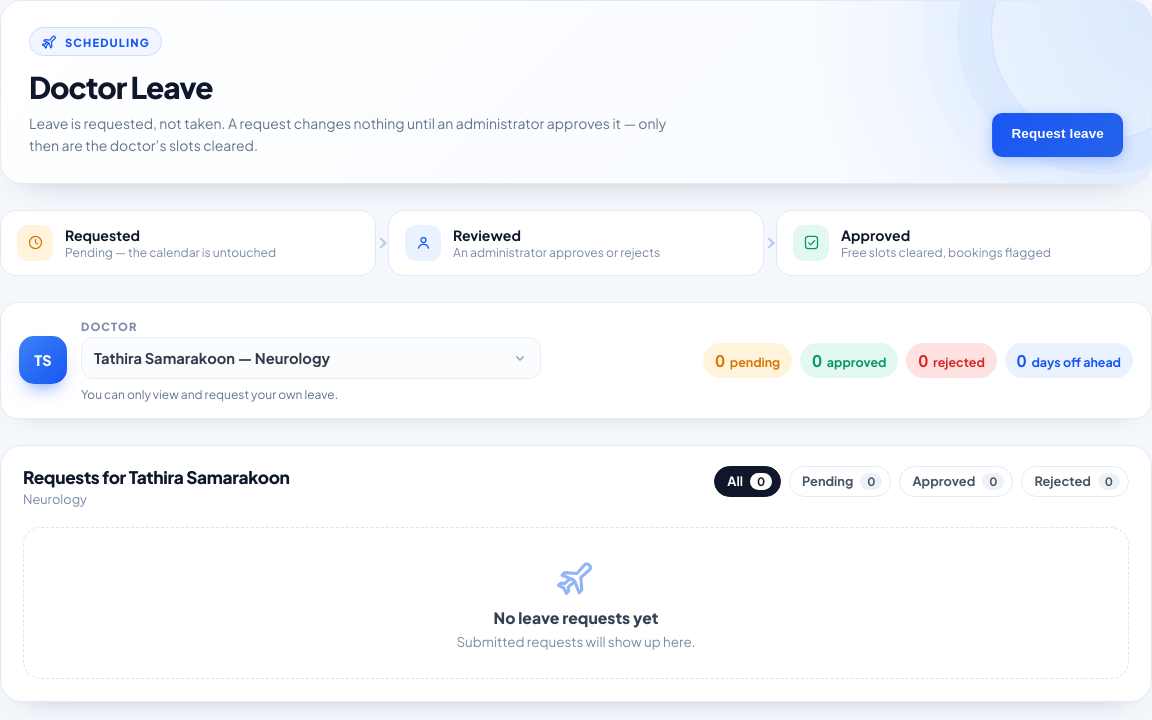
Test case: DoctorLeavePage redesign interactions › counts the days of a request as it is typed, and refuses a backwards range
Click the button "Request leave" at (1058, 135), box top-left (992, 113), bottom-right (1123, 157)
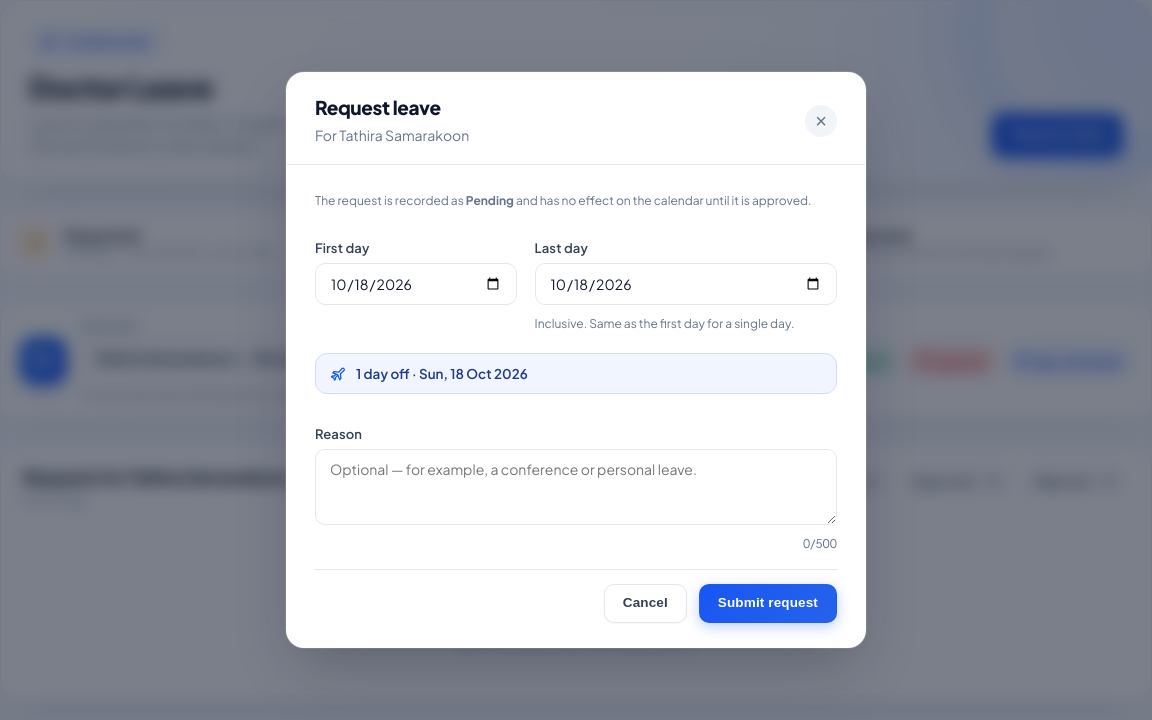
Type "2026-10-06" into the date field labelled "First day" at (416, 284), box top-left (315, 263), bottom-right (517, 305)
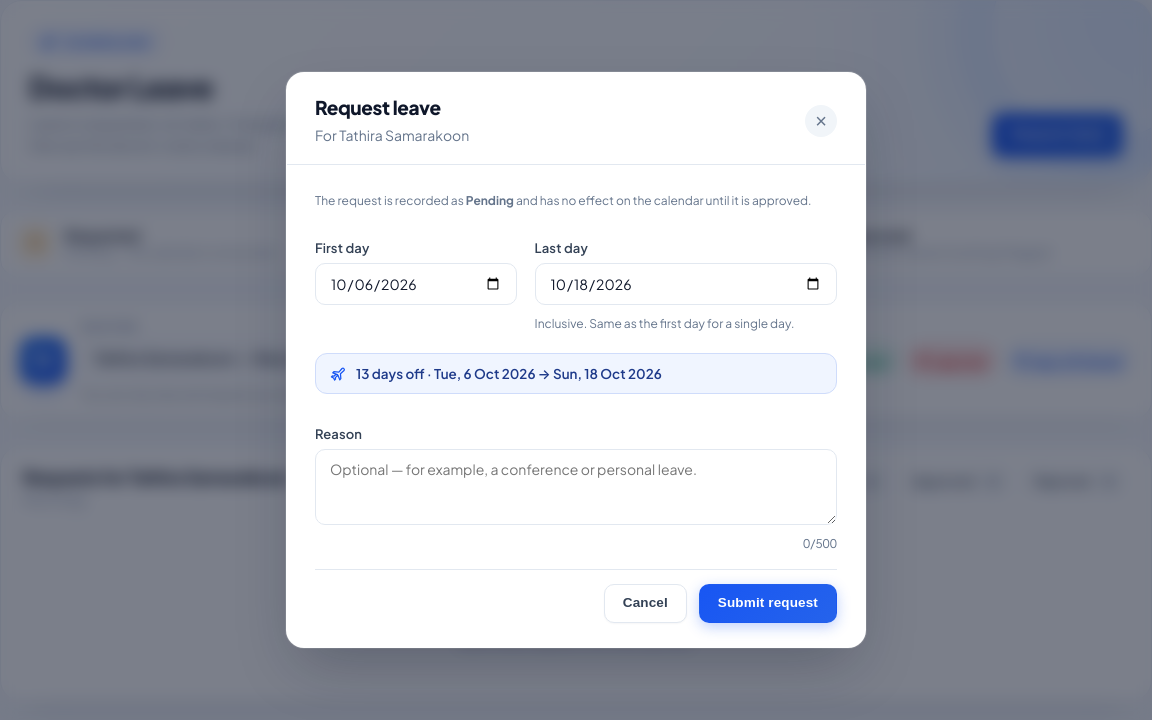
Type "2026-10-08" into the date field labelled "Last day" at (686, 284), box top-left (535, 263), bottom-right (837, 305)
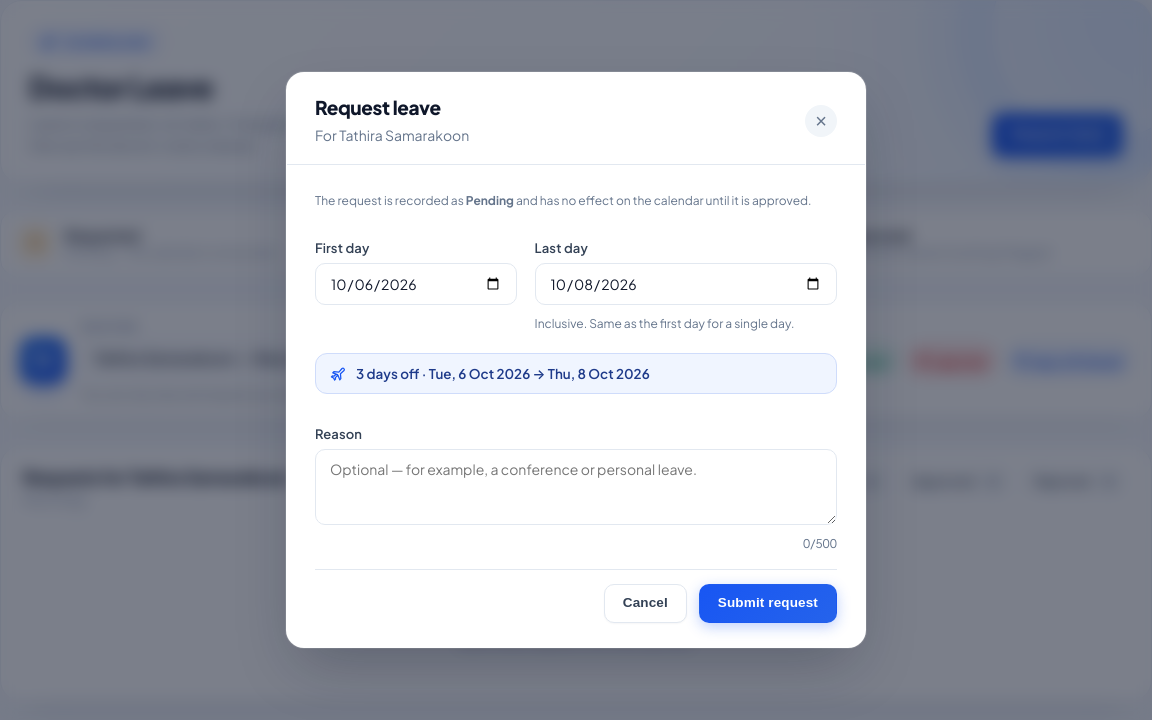
Check: the text "3 days off · Tue, 6 Oct 2026 → Thu, 8 Oct 2026" is shown, box top-left (315, 353), bottom-right (837, 394)
Type "2026-10-01" into the date field labelled "Last day" at (686, 284), box top-left (535, 263), bottom-right (837, 305)
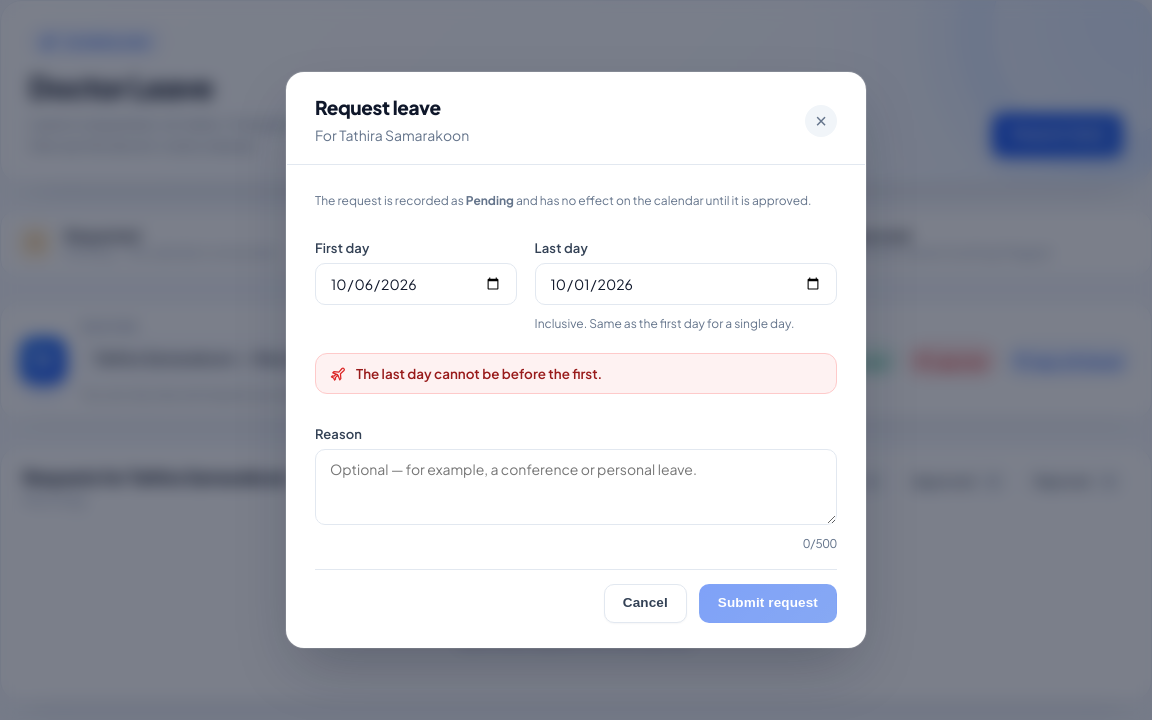
Check: the text "The last day cannot be before the first." is shown, box top-left (315, 353), bottom-right (837, 394)
Check: the button "Submit request" is disabled, box top-left (699, 584), bottom-right (837, 623)
